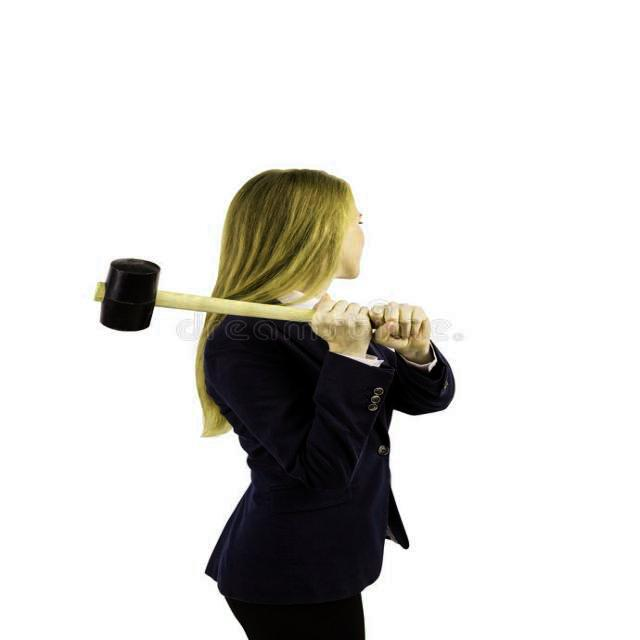hammer: (79, 246, 409, 351)
